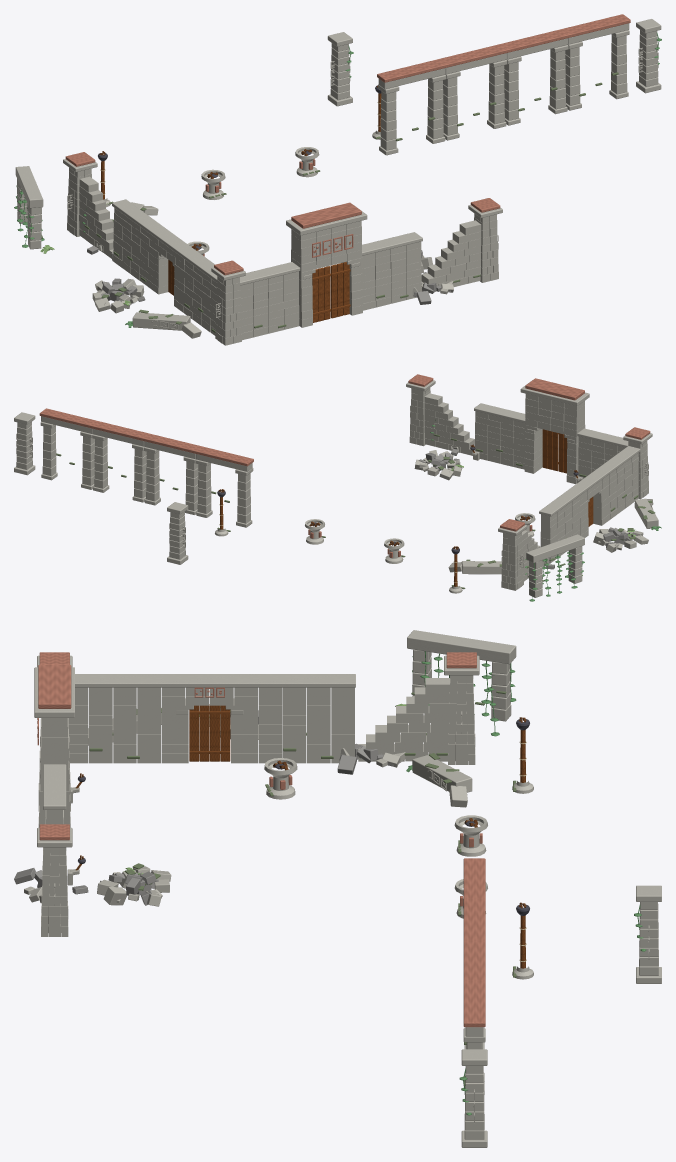
File: jungle-ruins.glb
3 views of the same model, one above another, from view 1: azimuth 30°, elevation 25°; view 2: azimuth 150°, elevation 25°; view 3: azimuth 270°, elevation 25° (orthographic). The views are drawn at different scales.
Visible parts, largest first — view 1: 179-stone-gate-tower0, 180-stone-wall-block0, 178-stone-wall-block0, 181-stone-wall-collapsed0, 170-colonnade-section0, 185-stone-wall-block0, 171-colonnade-section0, 173-colonnade-section0, 172-colonnade-section0, 184-corbel-arch-doorway0, 183-stone-wall-block0, 186-stone-wall-collapsed0 (+15 smaller); view 2: 179-stone-gate-tower0, 180-stone-wall-block0, 181-stone-wall-collapsed0, 170-colonnade-section0, 172-colonnade-section0, 173-colonnade-section0, 171-colonnade-section0, 185-stone-wall-block0, 183-stone-wall-block0, 193-vine-curtain0, 184-corbel-arch-doorway0, 178-stone-wall-block0 (+18 smaller); view 3: 185-stone-wall-block0, 183-stone-wall-block0, 184-corbel-arch-doorway0, 186-stone-wall-collapsed0, 193-vine-curtain0, 179-stone-gate-tower0, 182-stone-corner-pier0, 187-stone-corner-pier0, 184-corbel-arch-doorwaydoor-corbel, 174-square-column0, 175-square-column0, 176-fallen-lintel-block0 (+10 smaller).
Boxes of the visible parts, x1,y1,x2,y2 form: 179-stone-gate-tower0: (286,210,367,327); 180-stone-wall-block0: (362,232,422,310); 178-stone-wall-block0: (240,262,300,340); 181-stone-wall-collapsed0: (412,220,481,295); 170-colonnade-section0: (378,68,446,155); 185-stone-wall-block0: (112,199,160,286); 171-colonnade-section0: (443,53,507,140); 173-colonnade-section0: (565,23,629,110); 172-colonnade-section0: (504,38,568,125); 184-corbel-arch-doorway0: (147,225,196,312); 183-stone-wall-block0: (182,251,217,335); 186-stone-wall-collapsed0: (79,176,113,258); 179-stone-gate-tower0: (520,383,589,484); 180-stone-wall-block0: (474,403,525,469); 181-stone-wall-collapsed0: (424,393,474,455); 170-colonnade-section0: (195,454,253,527); 172-colonnade-section0: (92,429,146,502); 173-colonnade-section0: (40,416,94,489); 171-colonnade-section0: (144,441,198,514); 185-stone-wall-block0: (539,489,581,562); 183-stone-wall-block0: (599,446,640,519); 193-vine-curtain0: (526,534,584,597); 184-corbel-arch-doorway0: (569,467,611,537); 178-stone-wall-block0: (577,428,628,478); 185-stone-wall-block0: (258,674,355,763); 183-stone-wall-block0: (68,674,161,763); 184-corbel-arch-doorway0: (161,674,258,763); 186-stone-wall-collapsed0: (340,678,449,767); 193-vine-curtain0: (407,630,516,721); 179-stone-gate-tower0: (34,667,74,827); 182-stone-corner-pier0: (37,827,72,936); 187-stone-corner-pier0: (444,655,479,764); 184-corbel-arch-doorwaydoor-corbel: (189,704,230,761); 174-square-column0: (461,1049,487,1147); 175-square-column0: (636,885,661,983); 176-fallen-lintel-block0: (412,755,472,807).
Size of the model in its own units: 32.1 by 4.8 by 20.06.
Materials: 10 (8 with a texture image).
